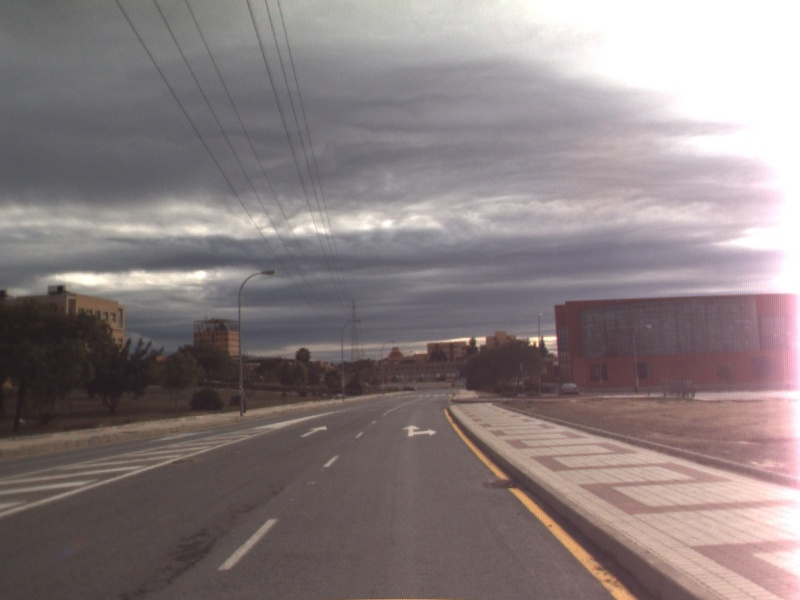STRAIGHT: (298, 423, 329, 439)
STRAIGHT_RIGHT: (400, 423, 439, 439)
